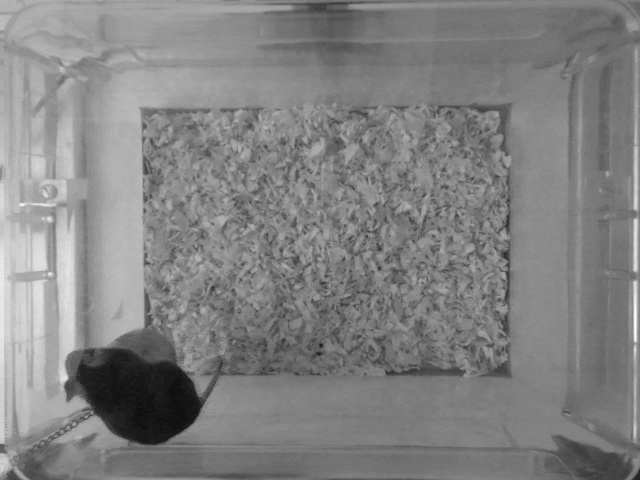mice: (60, 340, 229, 447)
